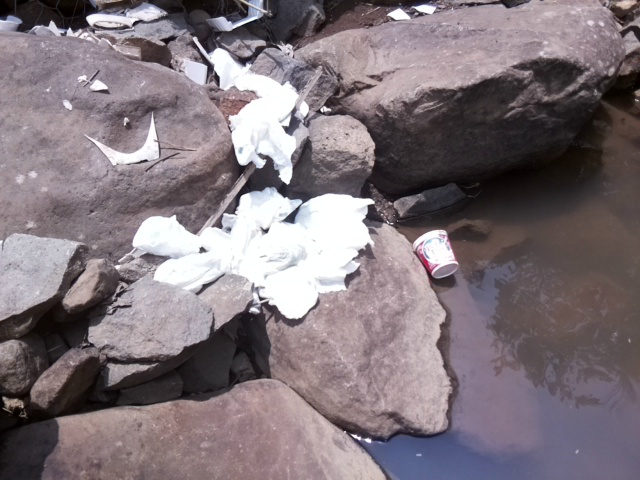Sampah_Plastik: (122, 191, 382, 318), (205, 44, 304, 184)
